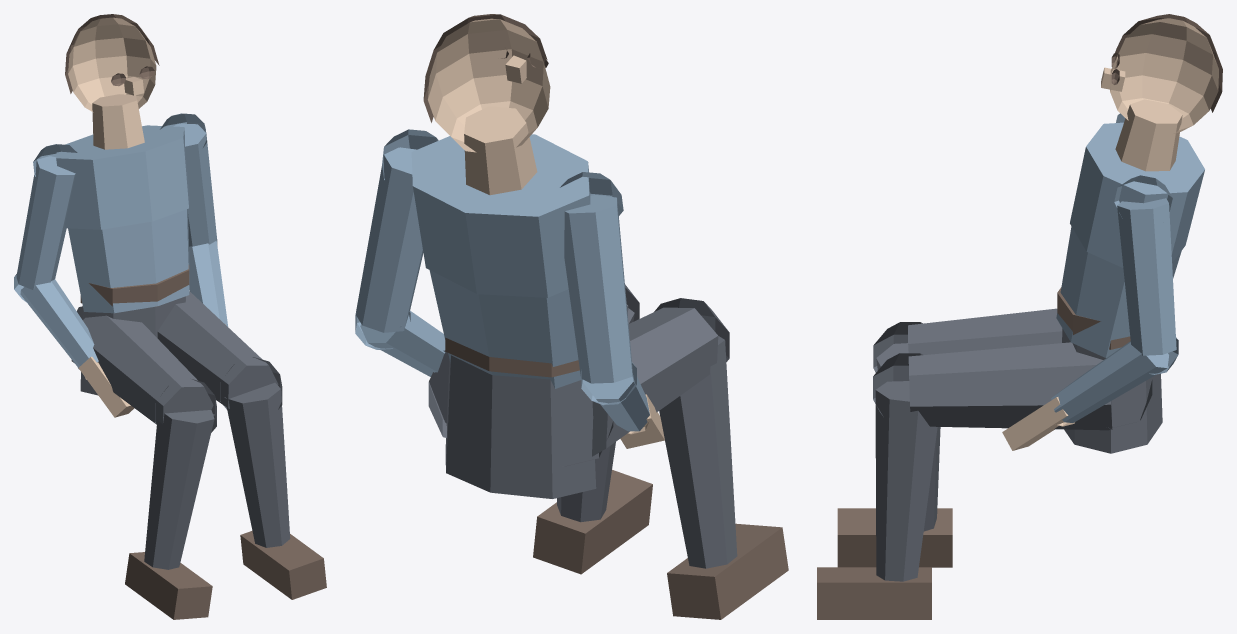
File: low-poly-character-figures-civilian-sitting-leaning-ba-fb0f0529__36343.glb
3 views of the same model, side by side, from view 1: azimuth 30°, elevation 25°; view 2: azimuth 150°, elevation 25°; view 3: azimuth 270°, elevation 25° (orthographic). The views are drawn at different scales.
Visible parts, largest first — view 1: civilian-sitting-leaning-back; view 2: civilian-sitting-leaning-back; view 3: civilian-sitting-leaning-back.
Part boxes in pixels (bbox=[...]): civilian-sitting-leaning-back: bbox=[14, 14, 326, 619]; civilian-sitting-leaning-back: bbox=[355, 14, 788, 619]; civilian-sitting-leaning-back: bbox=[817, 14, 1222, 619].
Bounding box in the file's own units: 0.5734 × 1.35 × 0.8653.
